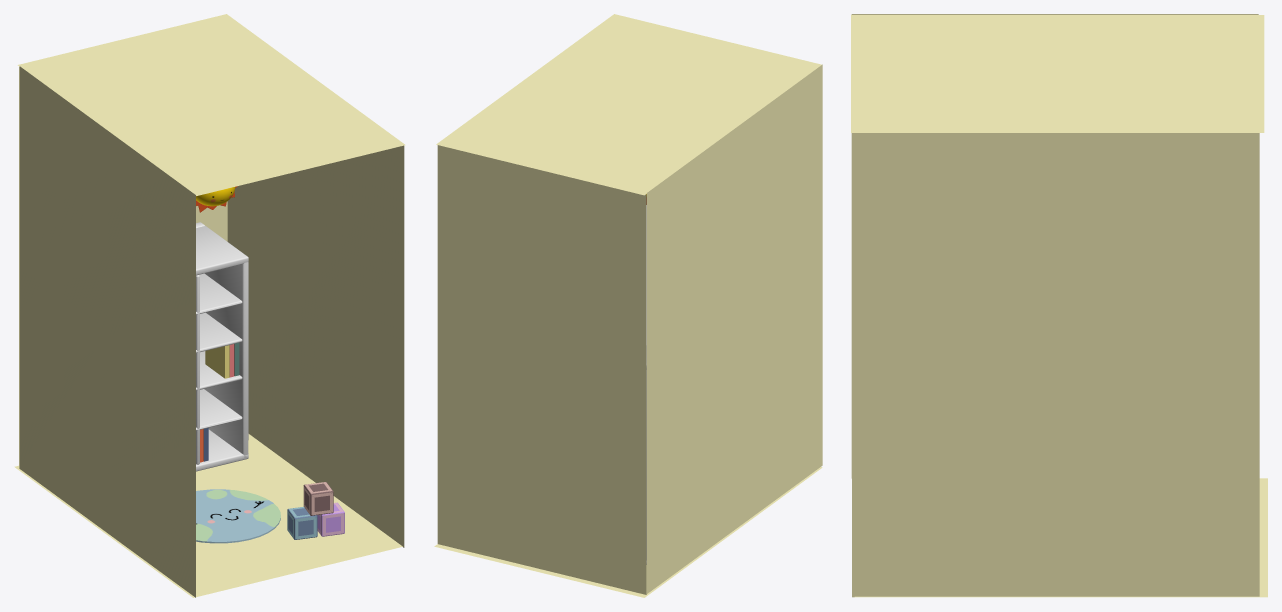
File: PlayRoom.fbx
The picture shows the model from 3 angles, left to right: view 1: azimuth 30°, elevation 25°; view 2: azimuth 150°, elevation 25°; view 3: azimuth 270°, elevation 25°; orthographic projection. The views are drawn at different scales.
Parts seen in each view (by area): view 1: Rug.051, Rug.052, Rug.054, Rug.050, Rug.008, Rug, Rug.053, Rug.013, Rug.020, Rug.021, Rug.027; view 2: Rug.053, Rug.051, Rug.054, Rug.050; view 3: Rug.052, Rug.054, Rug.050, Rug.051.
Part boxes in pixels (x1=…): Rug.051: x1=19, y1=66, x2=195, y2=597; Rug.052: x1=227, y1=145, x2=404, y2=547; Rug.054: x1=17, y1=14, x2=405, y2=195; Rug.050: x1=14, y1=434, x2=402, y2=597; Rug.008: x1=196, y1=222, x2=248, y2=471; Rug: x1=196, y1=489, x2=280, y2=543; Rug.053: x1=19, y1=67, x2=227, y2=468; Rug.013: x1=303, y1=482, x2=333, y2=515; Rug.020: x1=287, y1=506, x2=317, y2=539; Rug.021: x1=317, y1=502, x2=344, y2=536; Rug.027: x1=205, y1=345, x2=229, y2=378; Rug.053: x1=437, y1=145, x2=646, y2=594; Rug.051: x1=647, y1=64, x2=822, y2=593; Rug.054: x1=436, y1=14, x2=821, y2=195; Rug.050: x1=434, y1=467, x2=822, y2=597; Rug.052: x1=852, y1=133, x2=1259, y2=597; Rug.054: x1=851, y1=15, x2=1264, y2=132; Rug.050: x1=855, y1=478, x2=1267, y2=597; Rug.051: x1=851, y1=14, x2=1258, y2=478.
Bounding box in the file's own units: 676 × 1237 × 1002.
40 materials, 3 textured.
